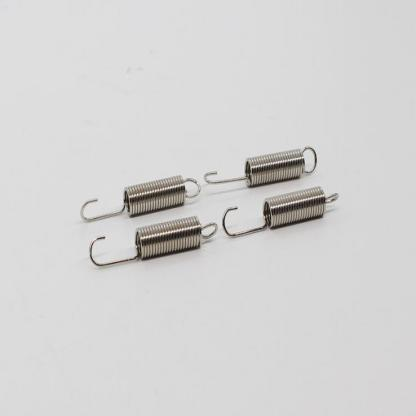FOD: (86, 212, 218, 269), (222, 181, 340, 239), (80, 172, 202, 228), (204, 141, 318, 187)
